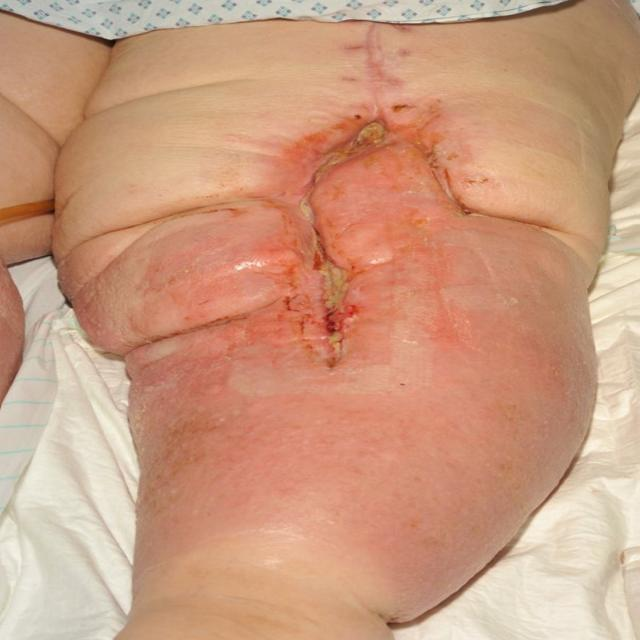wound: (237, 101, 490, 377)
